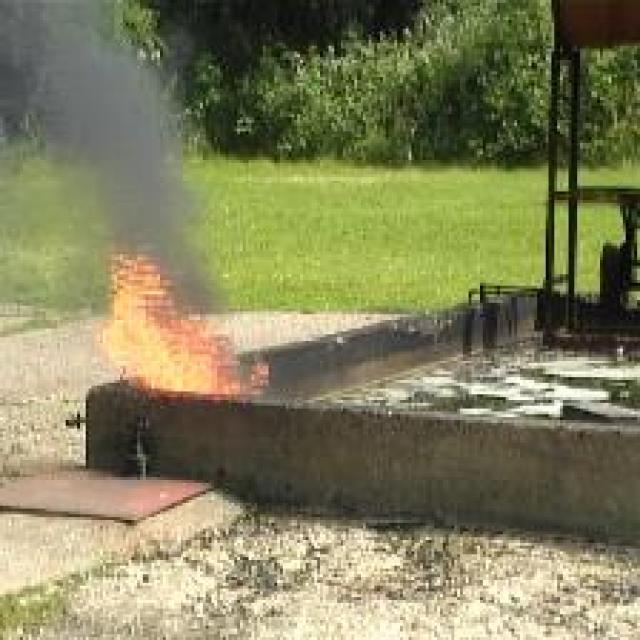Fire: (100, 244, 269, 396)
